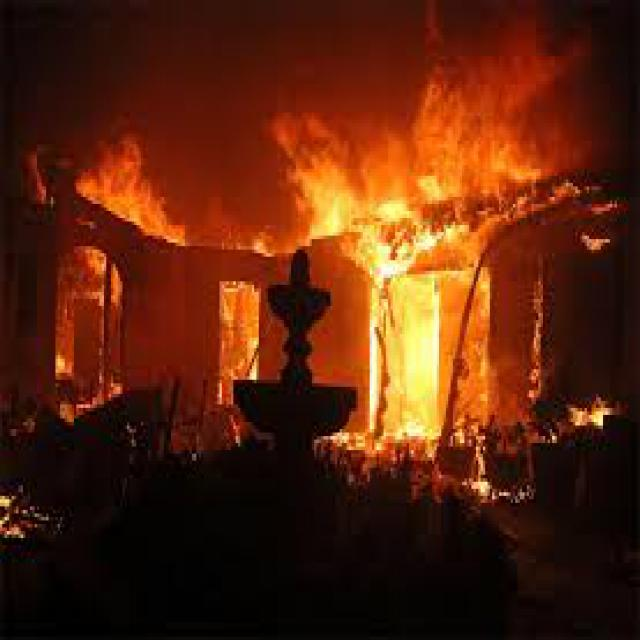fire: (62, 49, 636, 510)
